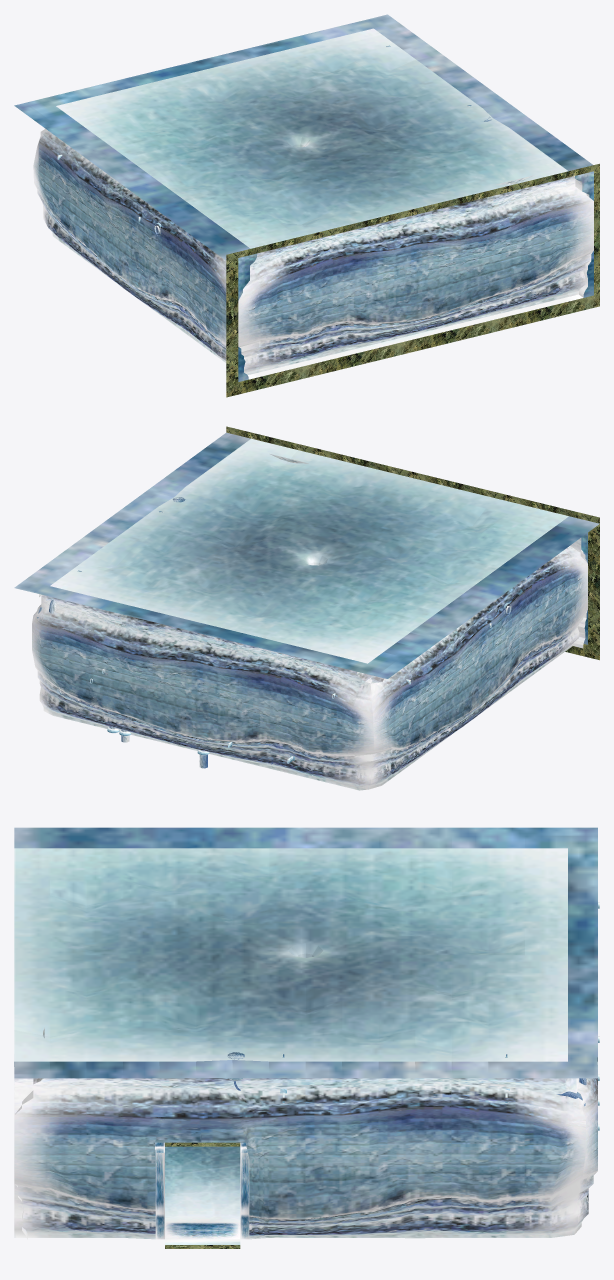
The model's file is room_61.glb.
3 views of the same model, one above another, from view 1: azimuth 30°, elevation 25°; view 2: azimuth 150°, elevation 25°; view 3: azimuth 270°, elevation 25° (orthographic). The views are drawn at different scales.
Visible parts, largest first — view 1: room_61; view 2: room_61; view 3: room_61.
Part boxes in pixels (box(x1,y1,x2,y2)): room_61: box(14, 14, 599, 397); room_61: box(14, 426, 599, 790); room_61: box(14, 827, 599, 1248).
Bounding box in the file's own units: 1575 × 582 × 1556.
Materials: 8 (8 with a texture image).
